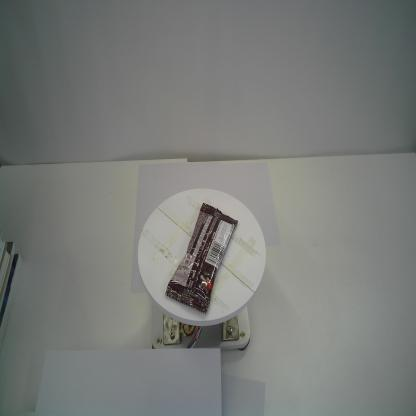Chocolate: (165, 202, 238, 315)
